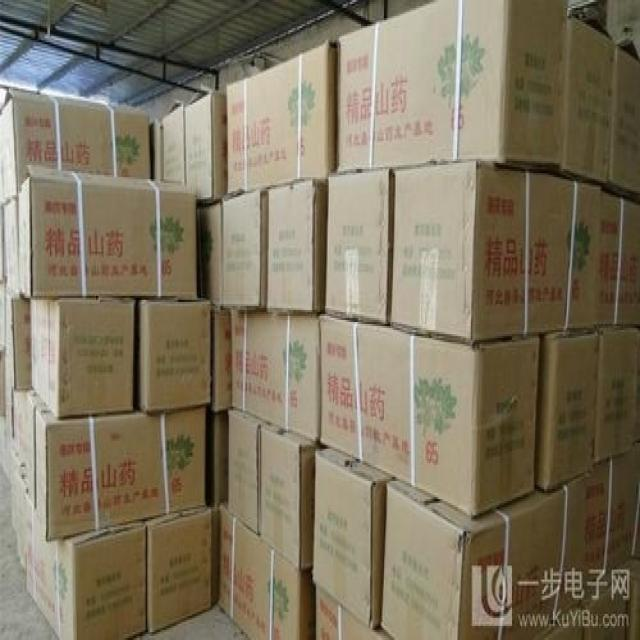box: (319, 311, 539, 515), (335, 3, 570, 175), (379, 471, 586, 638), (16, 160, 196, 303), (34, 394, 206, 542), (392, 159, 525, 347), (226, 41, 340, 195), (21, 504, 149, 637), (1, 90, 151, 201), (313, 443, 393, 628), (219, 505, 316, 638), (231, 308, 320, 444), (32, 300, 135, 417), (326, 169, 394, 328), (133, 289, 212, 413), (539, 323, 598, 489), (562, 10, 615, 189), (564, 177, 623, 326), (145, 504, 212, 632), (523, 169, 575, 332), (261, 421, 316, 568), (268, 181, 329, 313), (584, 447, 639, 593), (593, 324, 638, 464), (223, 186, 269, 310), (183, 86, 229, 204), (228, 407, 268, 534), (613, 37, 639, 201), (315, 585, 391, 638), (584, 550, 628, 636), (21, 389, 48, 506), (194, 198, 222, 308), (617, 193, 639, 326), (210, 298, 233, 413), (204, 404, 229, 507), (5, 298, 31, 389), (161, 97, 186, 180), (2, 196, 20, 299), (537, 600, 585, 636), (17, 475, 32, 572), (9, 447, 23, 536), (14, 387, 28, 473), (210, 505, 221, 601), (629, 533, 639, 638), (5, 381, 13, 478), (152, 118, 164, 176), (0, 347, 7, 418)
